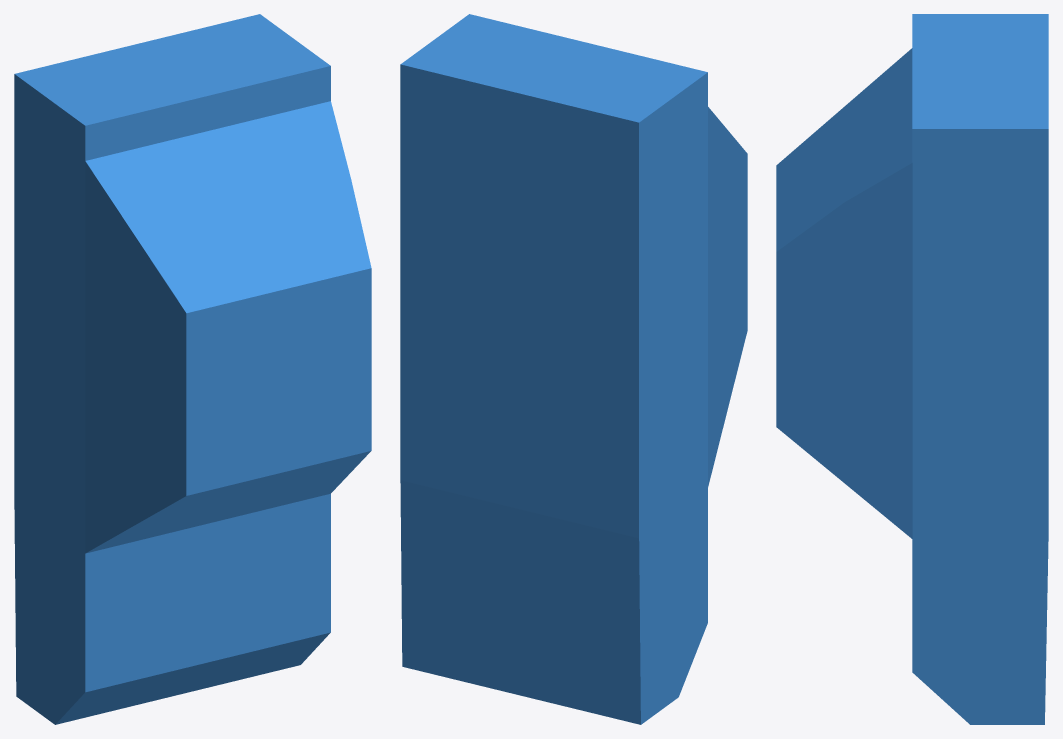
The model's file is coche.gltf.
3 renders of one model, left to right at view 1: azimuth 30°, elevation 25°; view 2: azimuth 150°, elevation 25°; view 3: azimuth 270°, elevation 25°, orthographic. The views are drawn at different scales.
Parts seen in each view (by area): view 1: Cube; view 2: Cube; view 3: Cube.
Part boxes in pixels (x1,y1,x2,y2): Cube: (14,14,371,724); Cube: (400,14,747,724); Cube: (776,14,1048,724).
Bounding box in the file's own units: 2 × 4.83 × 2.
